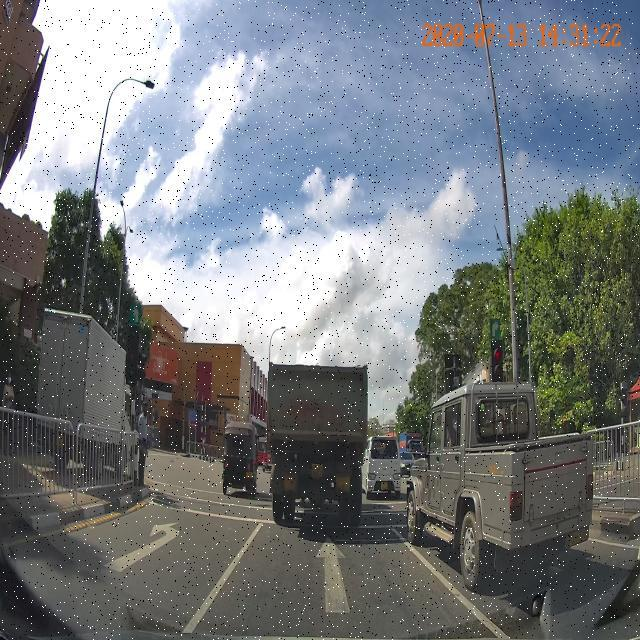forward: (189, 537, 501, 624)
